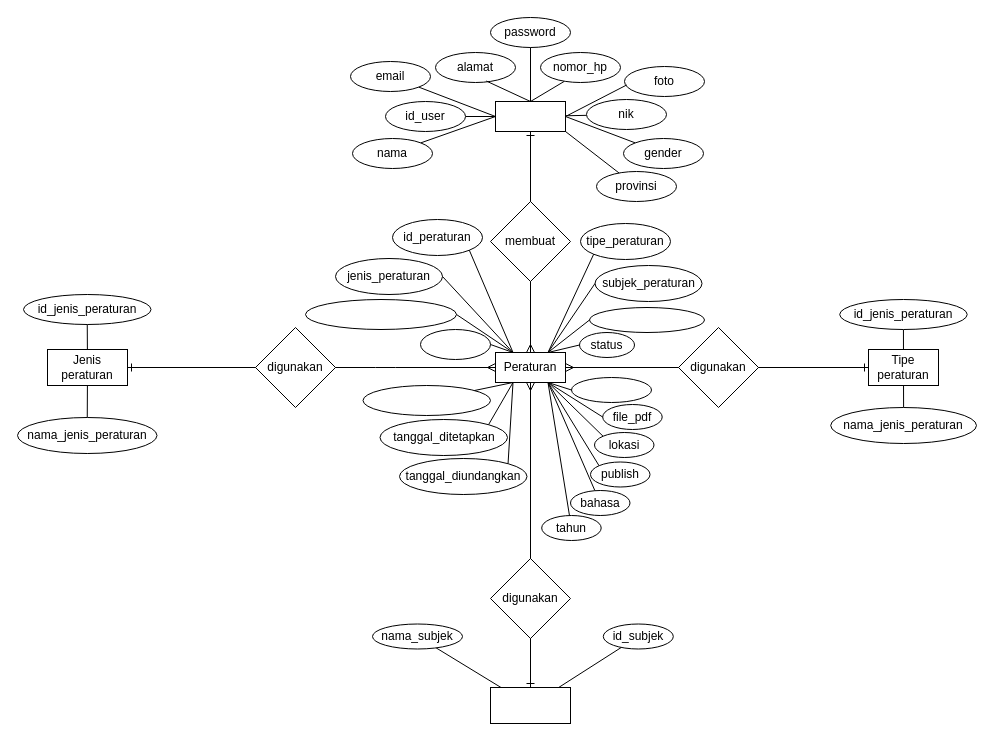
The diagram is 994 pixels wide and 741 high, and some of its shapes have lost their labels. Each missing label, with the box of its shape:
judul: (420, 328, 490, 360)
nomor_peraturan: (588, 306, 704, 332)
status_darft: (570, 376, 652, 402)
Subjek peraturan: (490, 686, 570, 724)
tempat_penetapan: (362, 384, 490, 416)
teu_badan_pengarang: (304, 298, 456, 330)
User: (494, 100, 566, 132)
